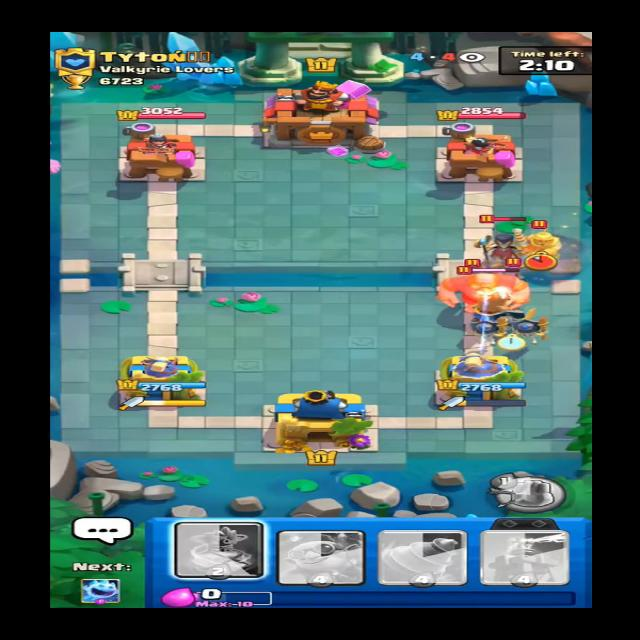Giant: (439, 261, 535, 314)
Nightwitch: (472, 223, 537, 265)
Prince: (508, 222, 571, 266)
